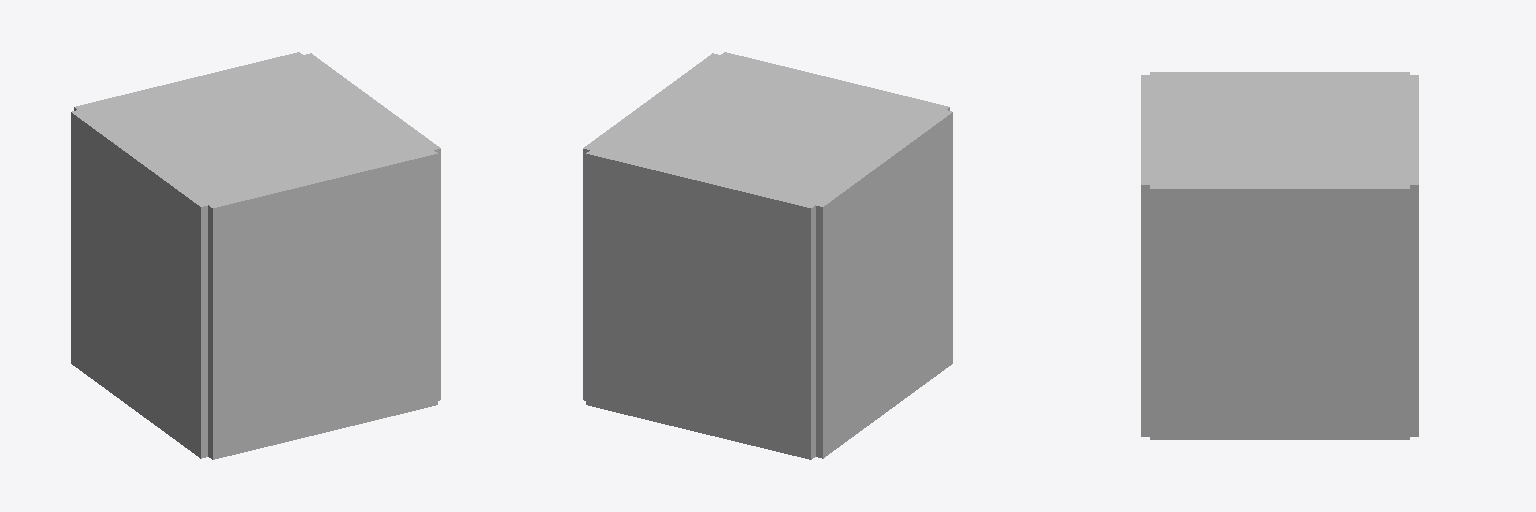
Rendered from Tilemap_C0_0000.obj.
3 views of the same model, side by side, from view 1: azimuth 30°, elevation 25°; view 2: azimuth 150°, elevation 25°; view 3: azimuth 270°, elevation 25° (orthographic).
Parts seen in each view (by area): view 1: object 1; view 2: object 1; view 3: object 1.
Part boxes in pixels (x1,y1,x2,y2): object 1: (71, 52, 440, 459); object 1: (583, 52, 952, 459); object 1: (1141, 72, 1418, 439).
Bounding box in the file's own units: 3.2 × 3.2 × 3.2.